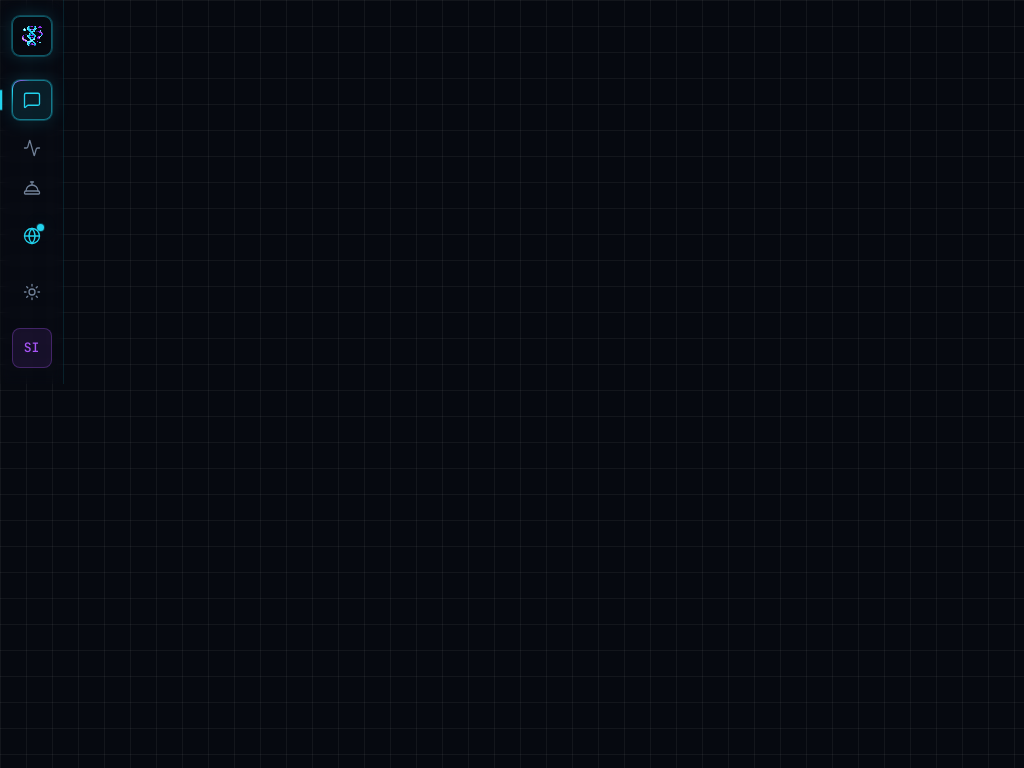
Test case: T4 IconRail 联网状态钮（契约 v0.7 web 族） › 点击开合 popover：连接详情（浏览器/端口/tab 数）+ tab 清单（owner/标题/闲置）+ 停止并清理
Click the button with id "btn-web-status" at {"x": 32, "y": 236}, box left=12, top=216, right=52, bottom=256
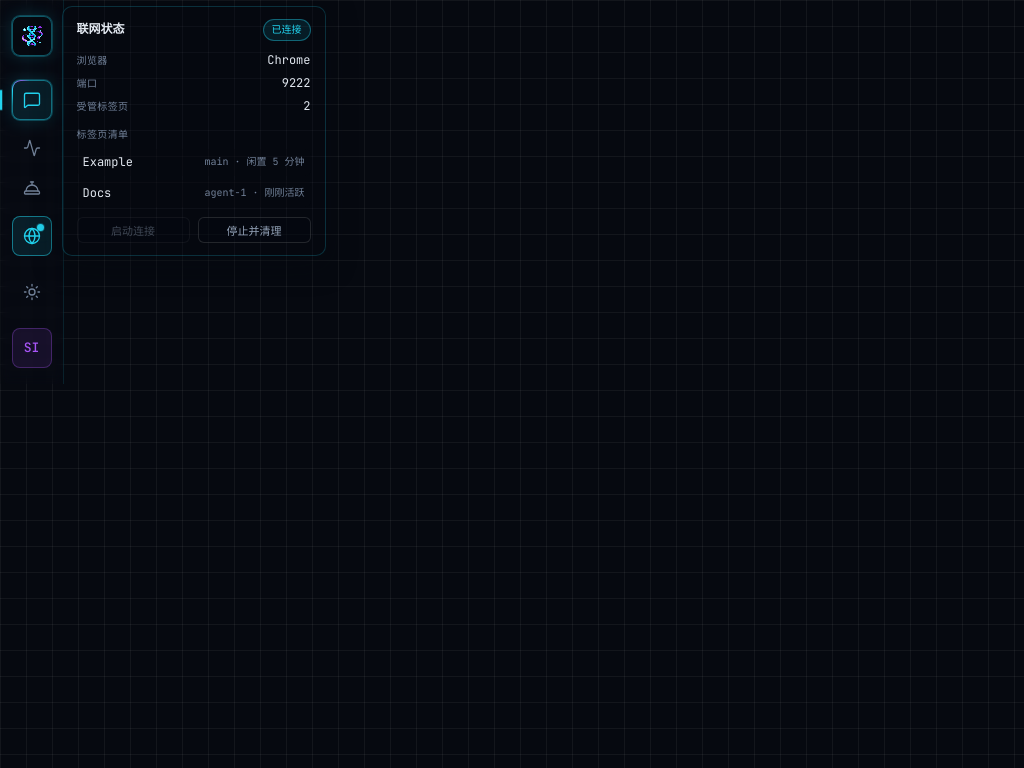
Now the dialog with class "web-pop" is shown, box left=62, top=6, right=326, bottom=256
Now the dialog with class "web-pop" shows "Chrome", box left=267, top=52, right=310, bottom=68
Now the dialog with class "web-pop" shows "9222", box left=282, top=75, right=310, bottom=91
Click the button with id "btn-web-status" at {"x": 32, "y": 236}, box left=12, top=216, right=52, bottom=256
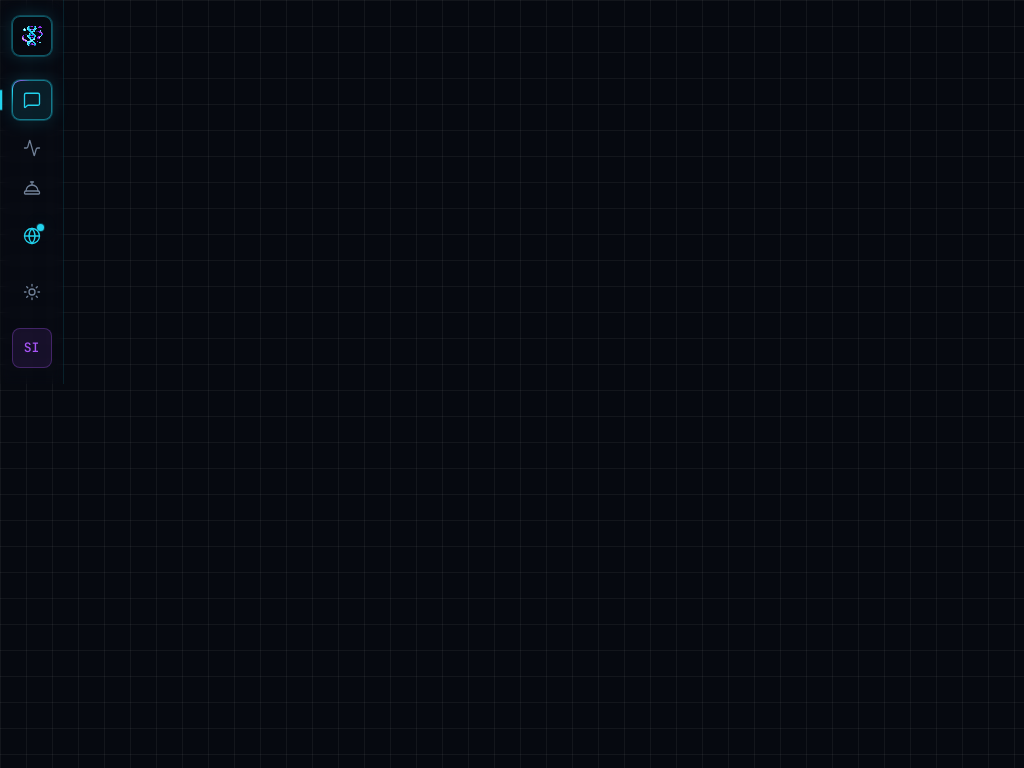
Now the dialog with class "web-pop" is gone
